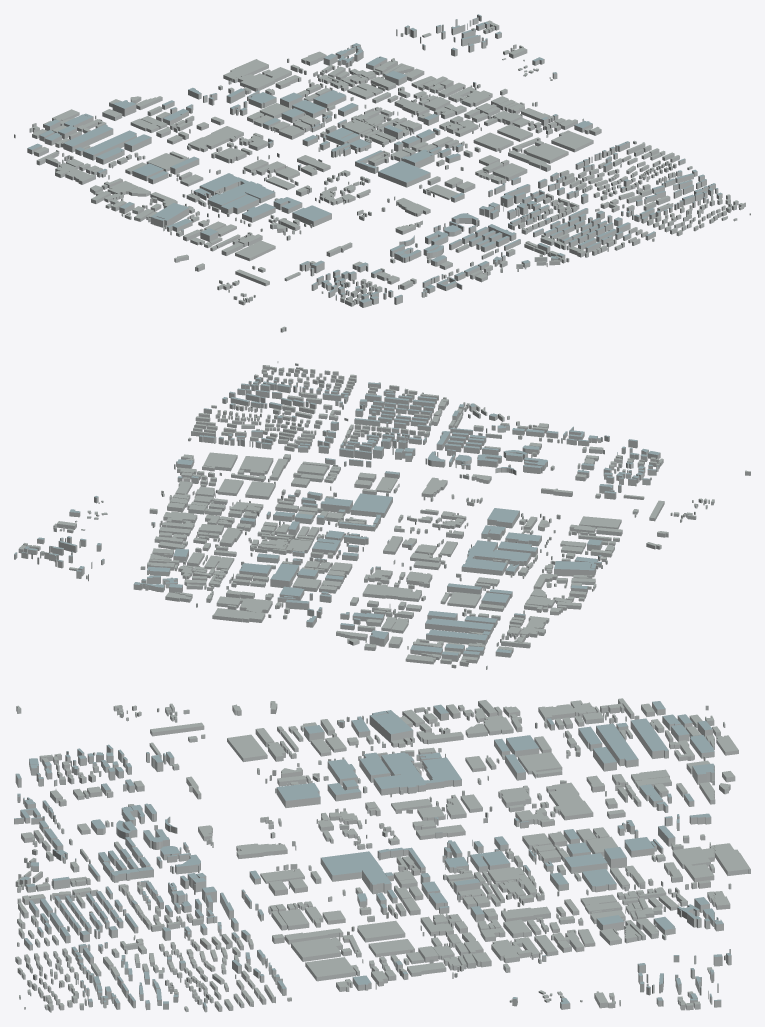
3 renders of one model, top to bottom at view 1: azimuth 30°, elevation 25°; view 2: azimuth 150°, elevation 25°; view 3: azimuth 270°, elevation 25°, orthographic. The views are drawn at different scales.
Parts seen in each view (by area): view 1: 上海全域建筑分块 · mapped building neighborhood; view 2: 上海全域建筑分块 · mapped building neighborhood; view 3: 上海全域建筑分块 · mapped building neighborhood.
Part boxes in pixels (x1,y1,x2,y2): 上海全域建筑分块 · mapped building neighborhood: [14, 14, 750, 332]; 上海全域建筑分块 · mapped building neighborhood: [14, 361, 750, 669]; 上海全域建筑分块 · mapped building neighborhood: [14, 698, 750, 1012].
Size of the model in its own units: 2153 by 35.02 by 2169.
